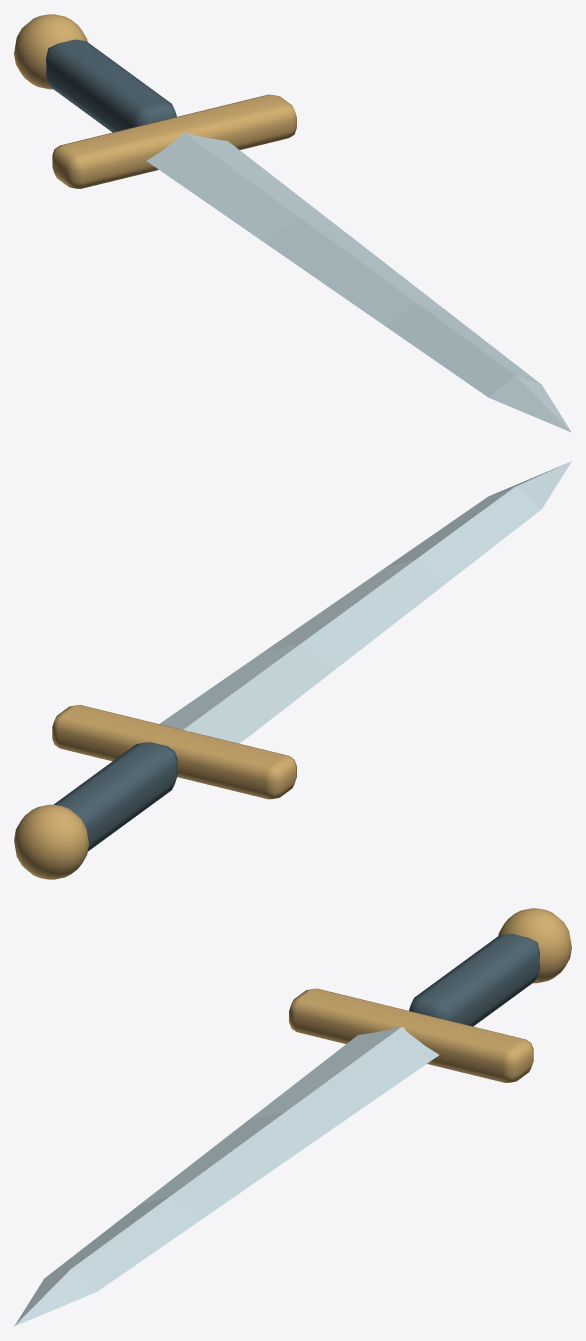
File: training_sword.glb
The picture shows the model from 3 angles, top to bottom: view 1: azimuth 30°, elevation 25°; view 2: azimuth 150°, elevation 25°; view 3: azimuth 330°, elevation 25°; orthographic projection.
Visible parts, largest first — view 1: training_blade, guard, grip, pommel; view 2: training_blade, guard, grip, pommel; view 3: training_blade, guard, grip, pommel.
Boxes of the visible parts, x1=… form: training_blade: x1=147, y1=132, x2=571, y2=432; guard: x1=52, y1=94, x2=296, y2=188; grip: x1=46, y1=39, x2=176, y2=132; pommel: x1=14, y1=14, x2=87, y2=89; training_blade: x1=159, y1=461, x2=571, y2=743; guard: x1=52, y1=705, x2=296, y2=799; grip: x1=54, y1=742, x2=177, y2=851; pommel: x1=14, y1=804, x2=88, y2=879; training_blade: x1=14, y1=1026, x2=438, y2=1326; guard: x1=289, y1=988, x2=533, y2=1082; grip: x1=409, y1=933, x2=539, y2=1026; pommel: x1=498, y1=908, x2=571, y2=983.
Size of the model in its own units: 0.42 by 0.12 by 1.71.
